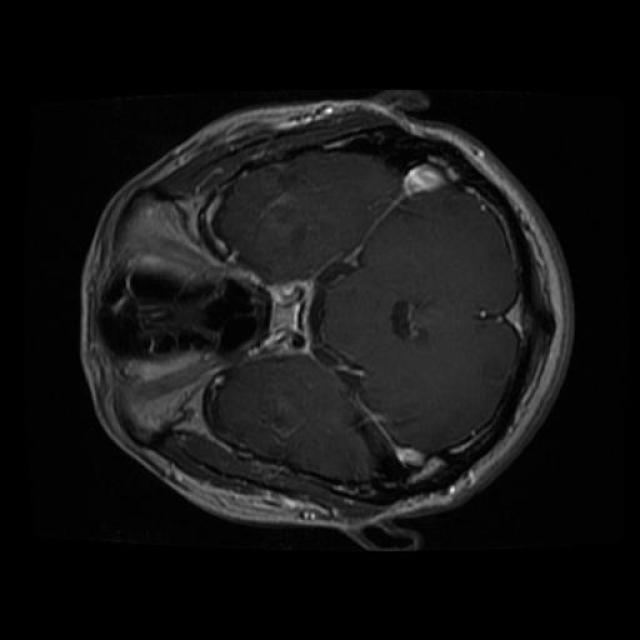Glioma: (258, 358, 310, 465), (202, 363, 245, 447)
